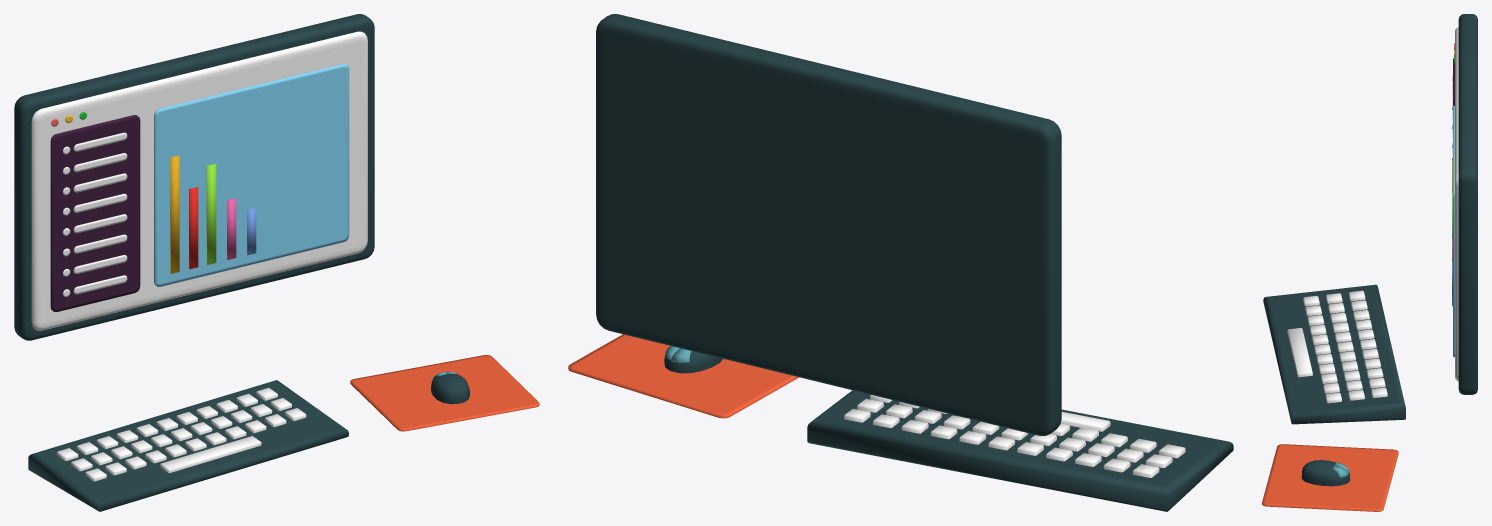
File: alcom.glb
3 views of the same model, side by side, from view 1: azimuth 30°, elevation 25°; view 2: azimuth 150°, elevation 25°; view 3: azimuth 270°, elevation 25° (orthographic). The views are drawn at different scales.
Visible parts, largest first — view 1: game, monitor_screen, monitor, keyboard, game_toplist, mouse_pad, keyboard_key, graphs, game_toplist_item, keyboard_space, mouse; view 2: monitor, keyboard, mouse_pad, keyboard_key, mouse; view 3: keyboard, monitor, mouse_pad, keyboard_key, monitor_screen, mouse, keyboard_space, game.
Boxes of the visible parts, x1,y1,x2,y2 form: game: [154, 64, 349, 286]; monitor_screen: [31, 31, 367, 330]; monitor: [14, 14, 374, 340]; keyboard: [28, 380, 348, 511]; game_toplist: [50, 115, 140, 311]; mouse_pad: [350, 355, 539, 431]; keyboard_key: [56, 387, 306, 481]; graphs: [170, 155, 256, 273]; game_toplist_item: [62, 132, 127, 296]; keyboard_space: [160, 436, 261, 473]; mouse: [431, 373, 469, 404]; monitor: [596, 14, 1061, 435]; keyboard: [807, 390, 1233, 511]; mouse_pad: [568, 334, 798, 418]; keyboard_key: [844, 395, 1185, 477]; mouse: [664, 351, 722, 373]; keyboard: [1263, 284, 1405, 424]; monitor: [1458, 14, 1477, 394]; mouse_pad: [1262, 444, 1398, 511]; keyboard_key: [1303, 290, 1387, 403]; monitor_screen: [1455, 27, 1458, 381]; mouse: [1301, 460, 1350, 486]; keyboard_space: [1287, 328, 1312, 377]; game: [1453, 105, 1454, 357].
Bounding box in the file's own units: 1.31 × 0.8815 × 0.5625.
